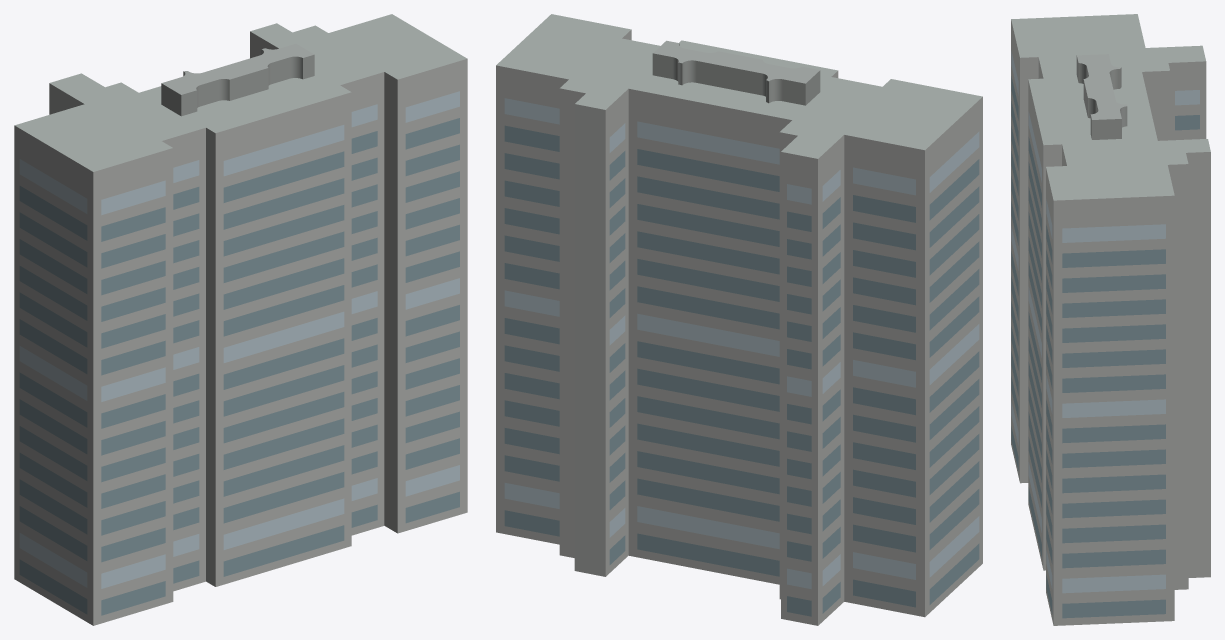
The model's file is fallback-mapo-raemian-prugio-406.glb.
The picture shows the model from 3 angles, left to right: view 1: azimuth 30°, elevation 25°; view 2: azimuth 150°, elevation 25°; view 3: azimuth 270°, elevation 25°; orthographic projection. The views are drawn at different scales.
Parts seen in each view (by area): view 1: fallback-mapo-raemian-prugio-406; view 2: fallback-mapo-raemian-prugio-406; view 3: fallback-mapo-raemian-prugio-406.
Boxes of the visible parts, bbox=[...] form: fallback-mapo-raemian-prugio-406: bbox=[14, 14, 467, 625]; fallback-mapo-raemian-prugio-406: bbox=[496, 14, 982, 625]; fallback-mapo-raemian-prugio-406: bbox=[1011, 14, 1210, 625].
Size of the model in its own units: 41.34 by 46 by 18.7.
